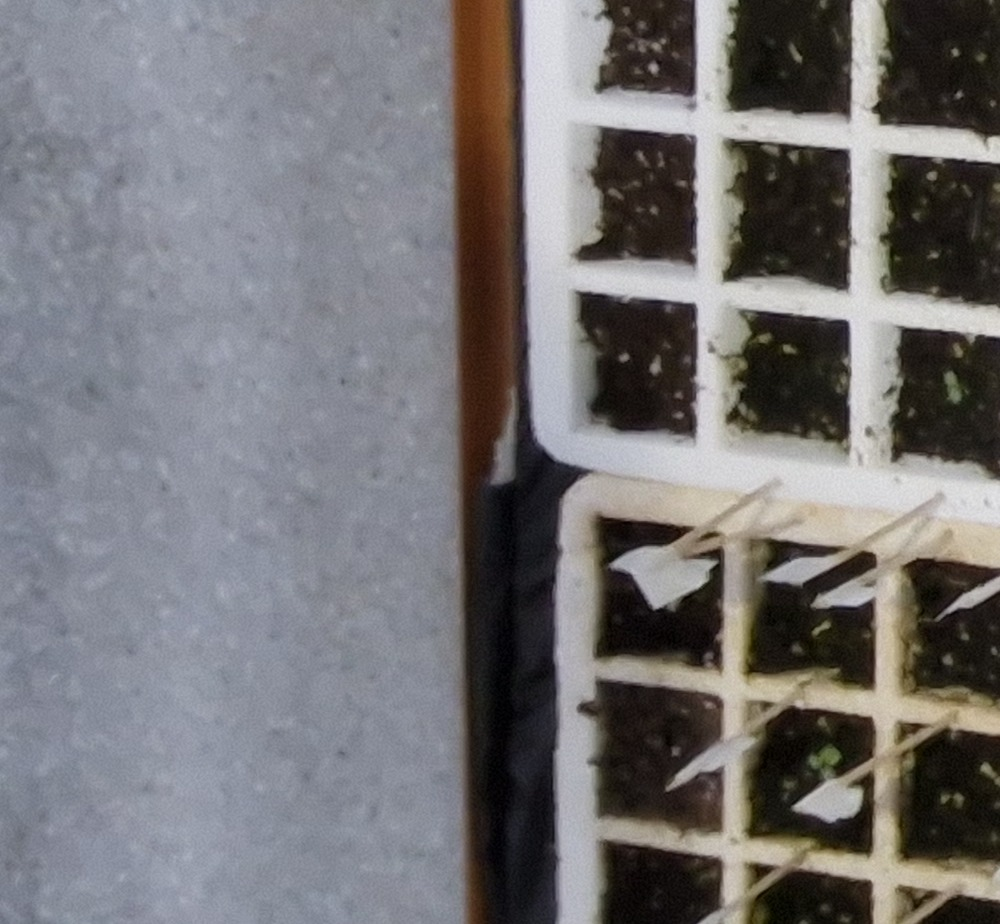Folha: (948, 386, 963, 403), (943, 372, 958, 387)
Germinacao: (944, 371, 962, 402)
